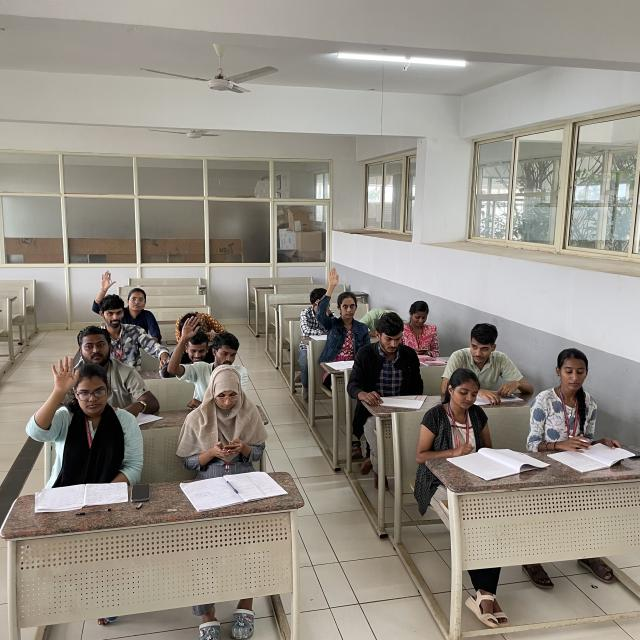Hand Rising: (24, 352, 139, 480), (168, 316, 255, 400), (316, 262, 370, 359), (87, 265, 163, 331)
Reading: (414, 364, 507, 463), (347, 310, 425, 411)
Using Phone: (182, 364, 271, 469), (393, 297, 449, 363)
Writing: (522, 344, 616, 457)
